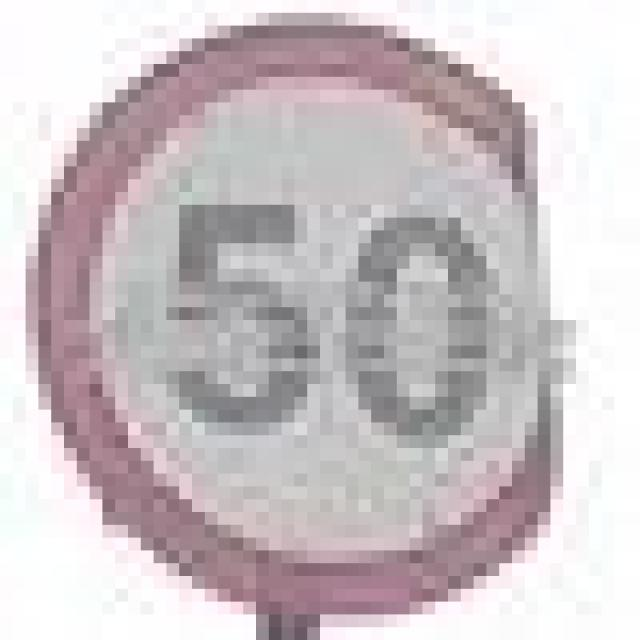SPEED_LIMIT_50: (13, 0, 563, 589)
